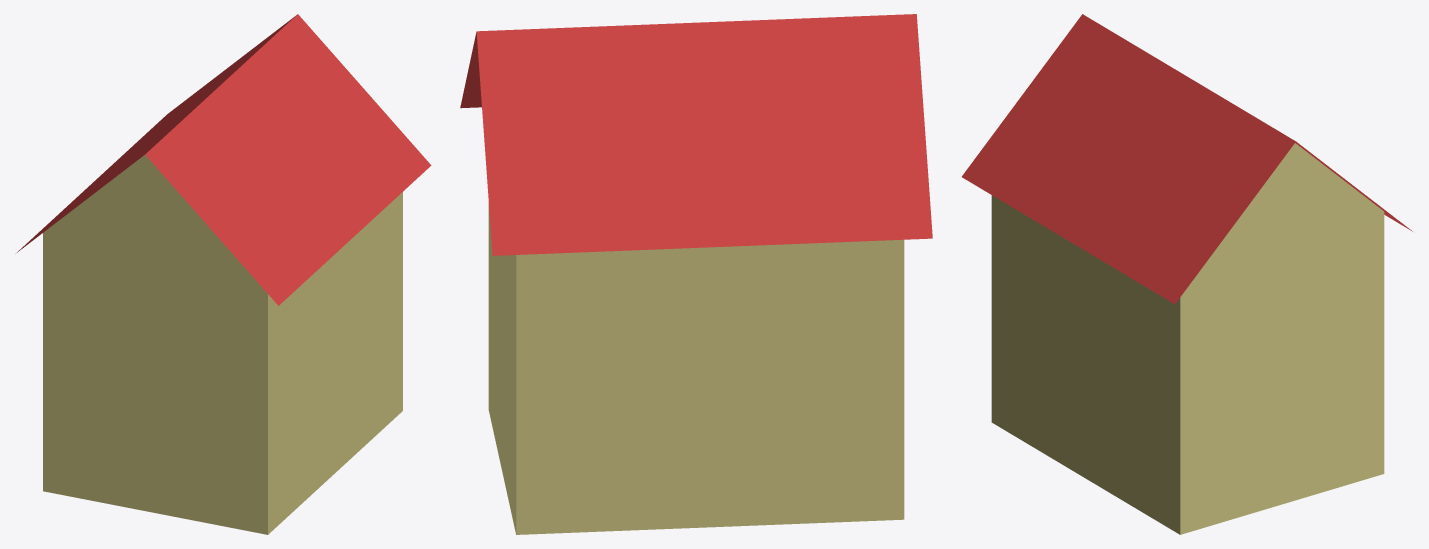
3 views of the same model, side by side, from view 1: azimuth 30°, elevation 25°; view 2: azimuth 150°, elevation 25°; view 3: azimuth 270°, elevation 25° (orthographic). The views are drawn at different scales.
Bounding box in the file's own units: 16.21 × 15.59 × 14.05.
